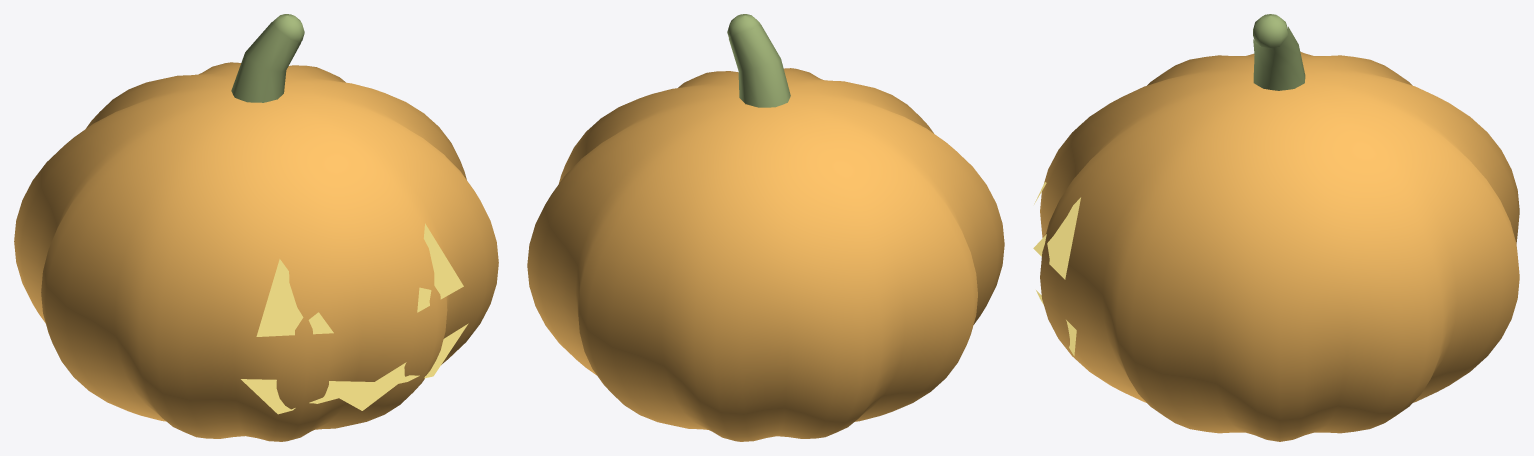
File: pumpkin-hat.glb
The picture shows the model from 3 angles, left to right: view 1: azimuth 30°, elevation 25°; view 2: azimuth 150°, elevation 25°; view 3: azimuth 270°, elevation 25°; orthographic projection. The views are drawn at different scales.
Bounding box in the file's own units: 16.26 × 14.53 × 15.69.
